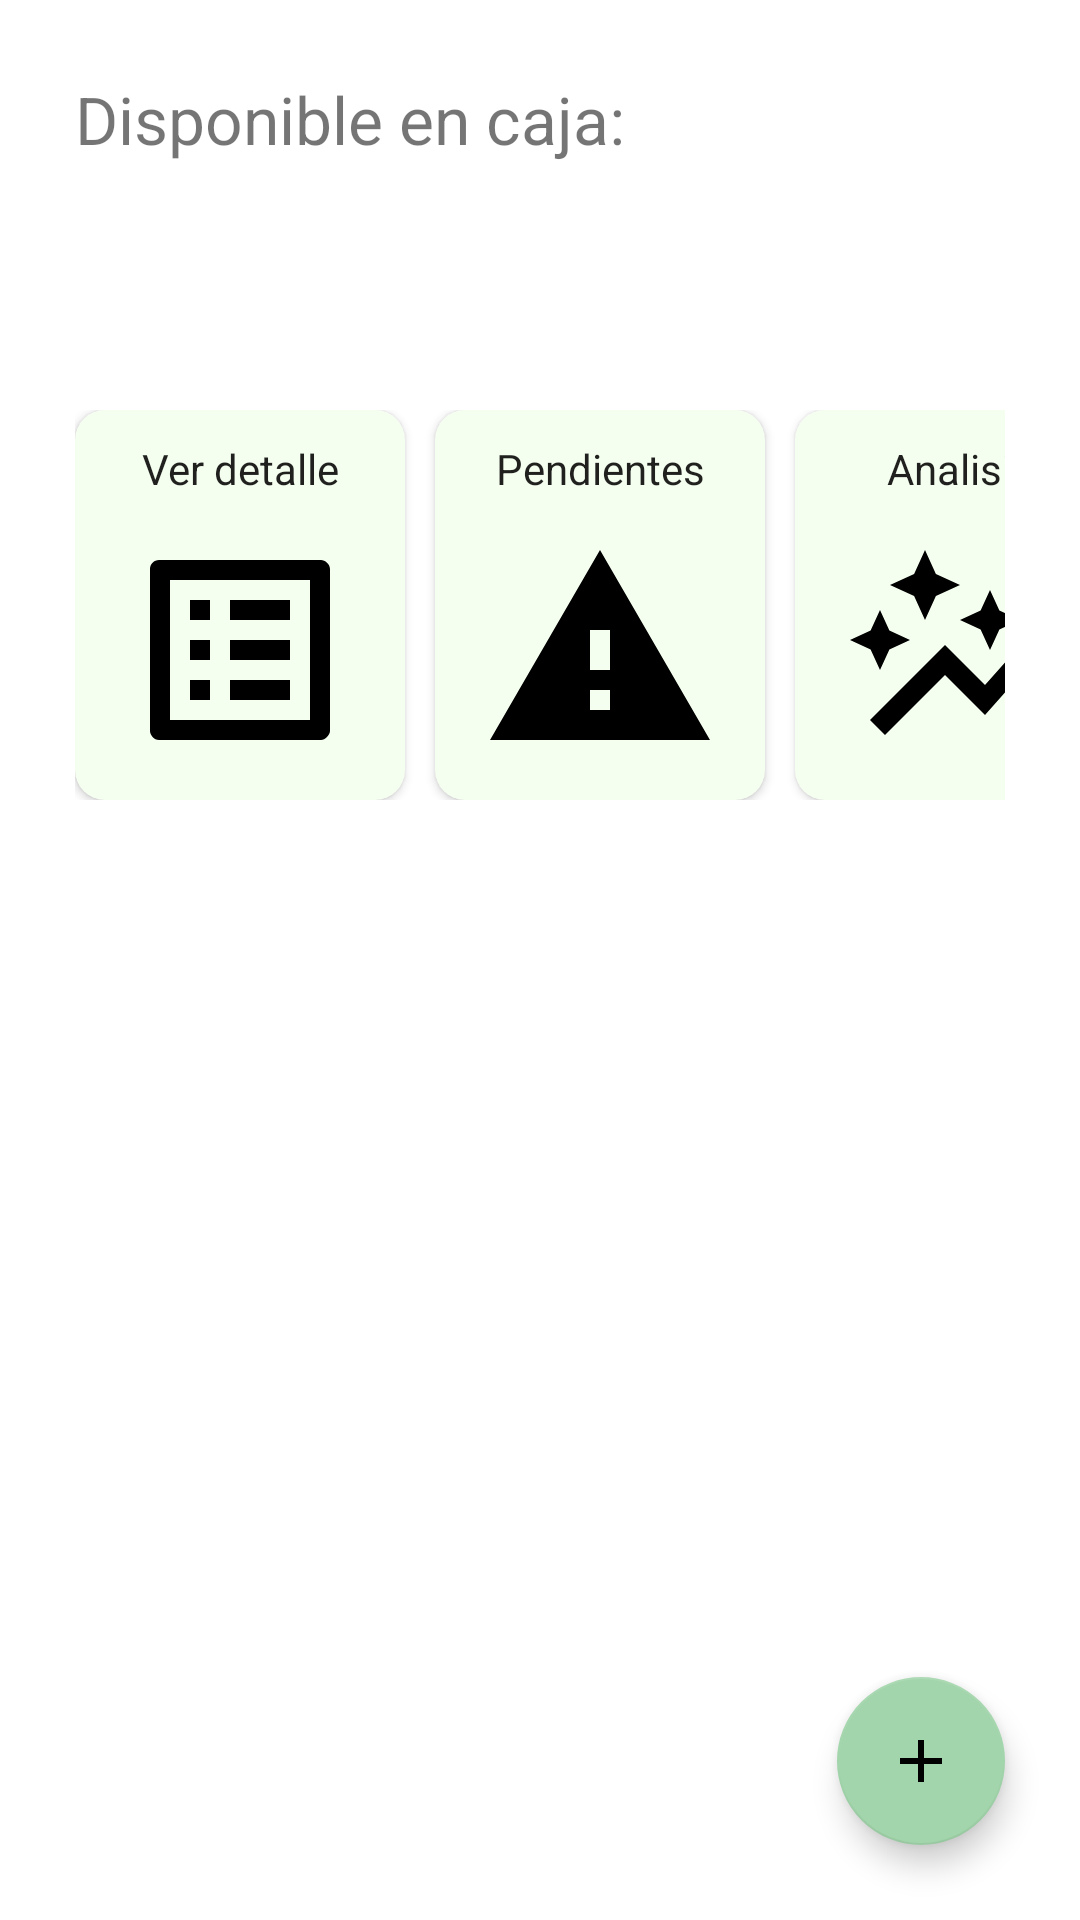

Where icons sit on this 1080px×1920px app screen, as (x1, y1, x2, y2):
Añadir transacción: (837, 1677, 1005, 1845)
